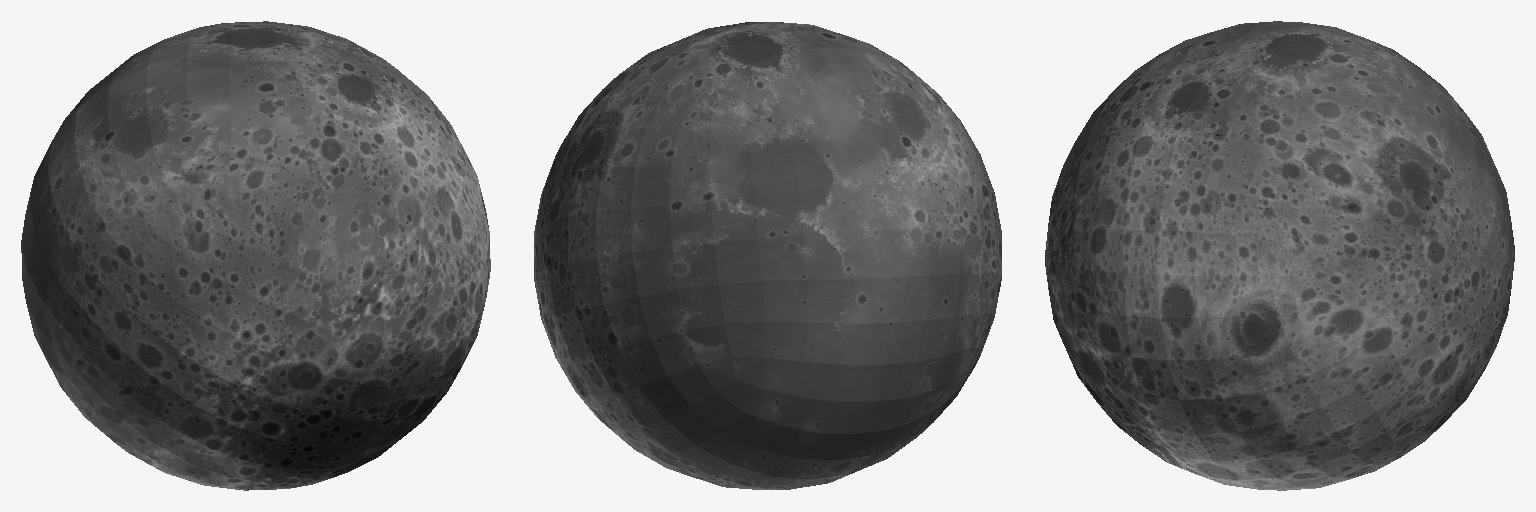
The picture shows the model from 3 angles: view 1: azimuth 30°, elevation 25°; view 2: azimuth 150°, elevation 25°; view 3: azimuth 270°, elevation 25°; orthographic projection.
Visible parts, largest first — view 1: Moon_Cube.002; view 2: Moon_Cube.002; view 3: Moon_Cube.002.
Part boxes in pixels (left/top/right/bottom): Moon_Cube.002: left=21, top=21, right=490, bottom=490; Moon_Cube.002: left=534, top=22, right=1001, bottom=489; Moon_Cube.002: left=1045, top=21, right=1514, bottom=490.
Size of the model in its own units: 3.48 by 3.48 by 3.49.
1 materials, 1 textured.